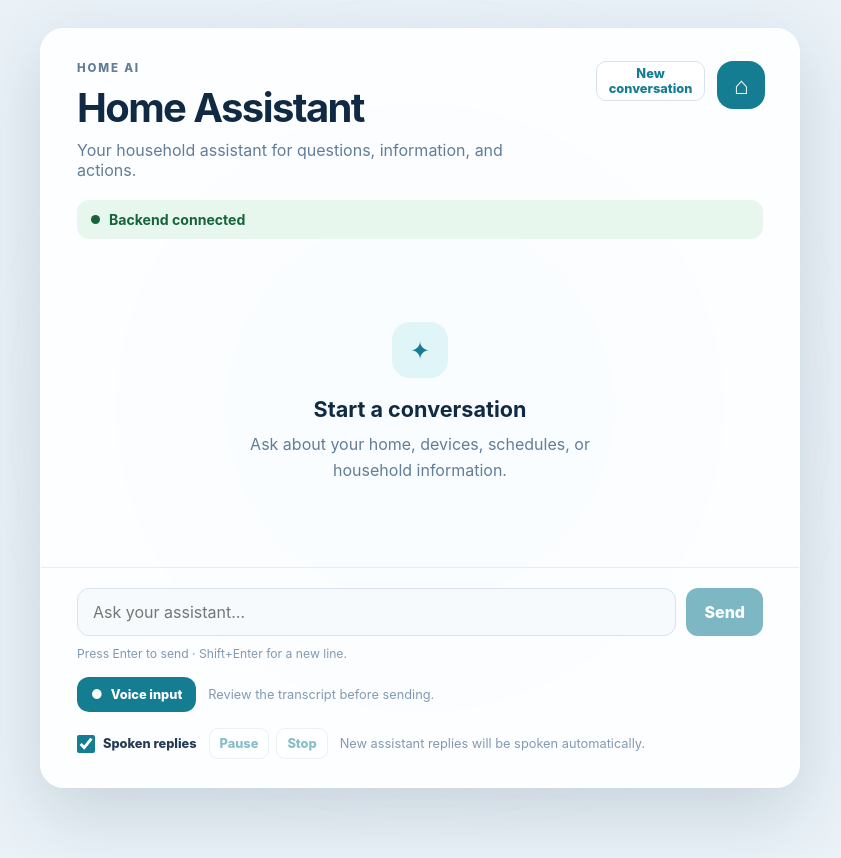
Test: App voice output integration › does not speak a failed chat request
The width and height of the screenshot is (841, 858).
Type "Hello" into the text box named "Message".
click(377, 612); type("Hello")  # box [77, 588, 676, 636]
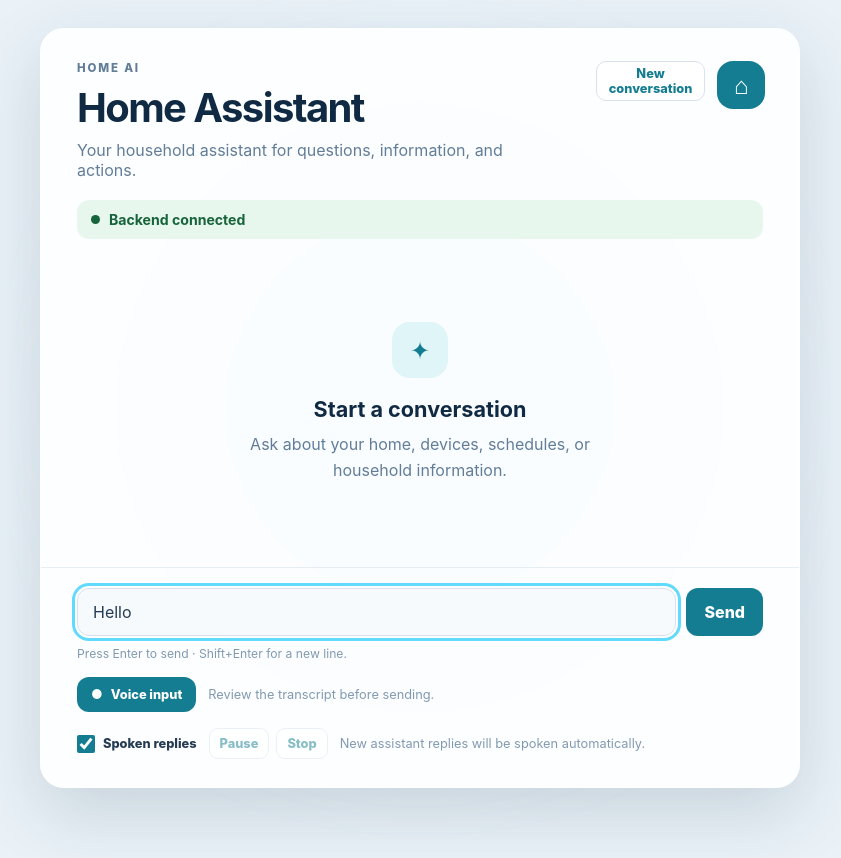
Click the button with aria-label "Send message".
click(725, 612)  # box [686, 588, 763, 636]
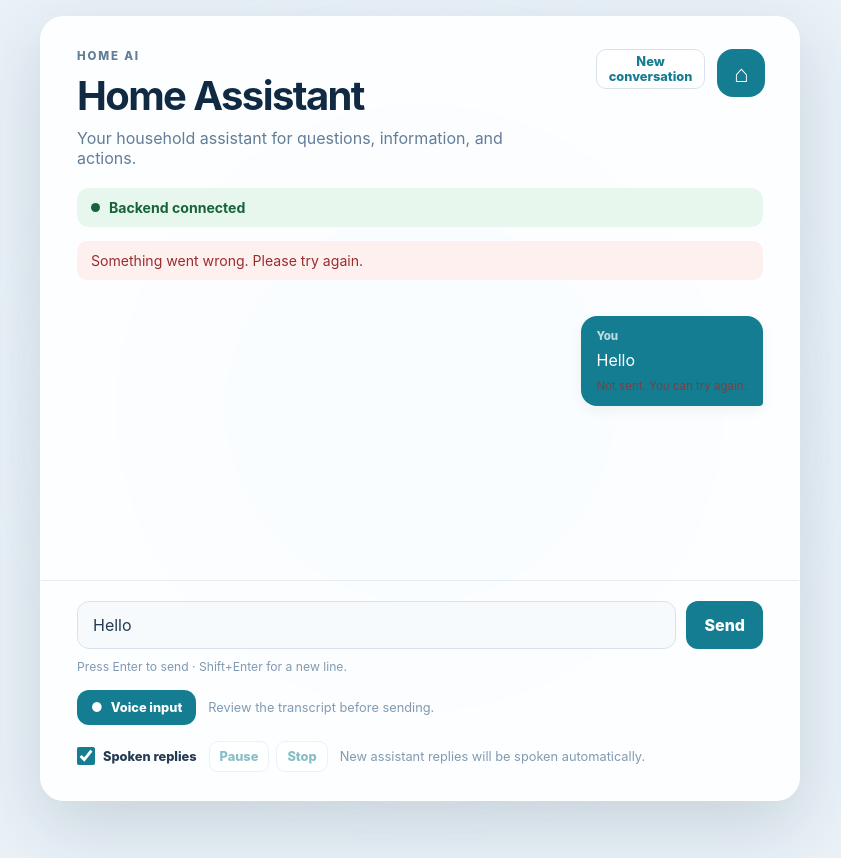
Now the message "Something went wrong. Please try again." is shown, box [77, 240, 763, 280]
